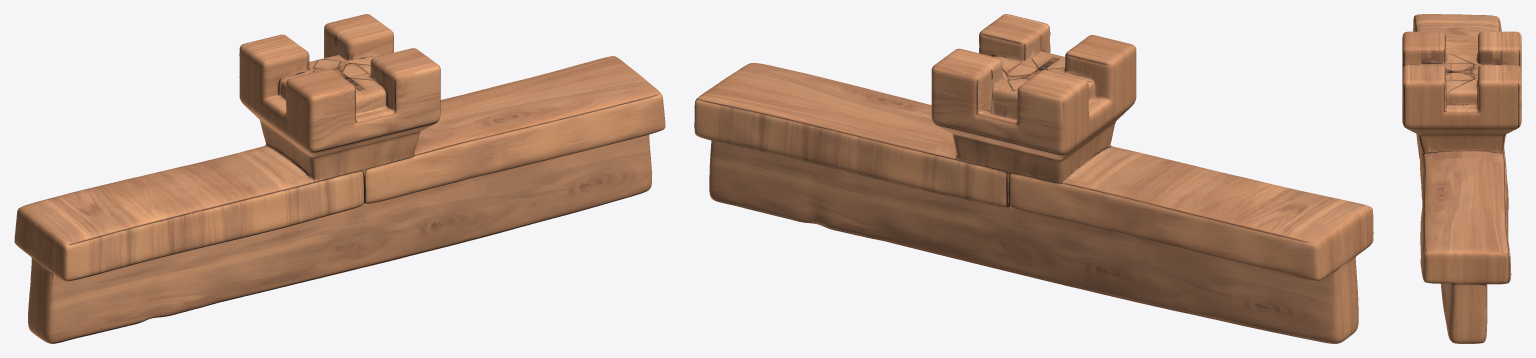
The model's file is 组件集合伍.glb.
3 renders of one model, left to right at view 1: azimuth 30°, elevation 25°; view 2: azimuth 150°, elevation 25°; view 3: azimuth 270°, elevation 25°, orthographic. The views are drawn at different scales.
Size of the model in its own units: 1.9 by 0.6163 by 0.3942.
Materials: 1 (1 with a texture image).
